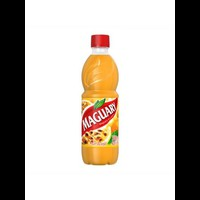maguary: (77, 30, 123, 168)
